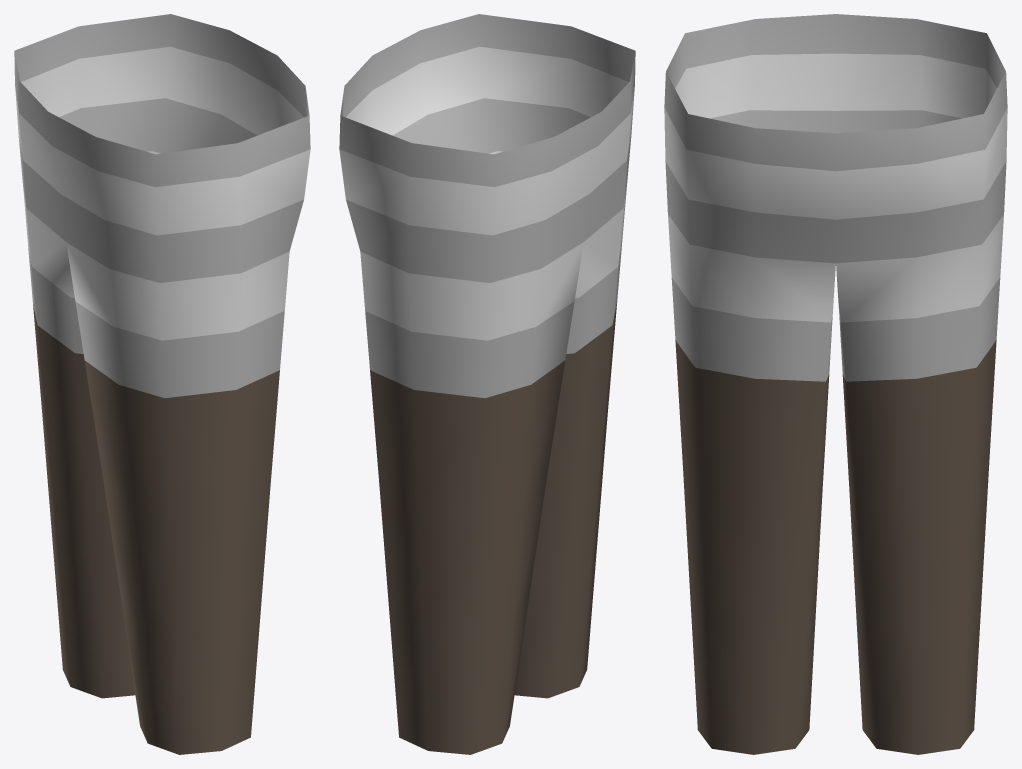
File: boxers.fbx
The picture shows the model from 3 angles, left to right: view 1: azimuth 30°, elevation 25°; view 2: azimuth 150°, elevation 25°; view 3: azimuth 270°, elevation 25°; orthographic projection. The views are drawn at different scales.
Parts seen in each view (by area): view 1: Cube.014; view 2: Cube.014; view 3: Cube.014.
Boxes of the visible parts, bbox=[...] form: Cube.014: bbox=[14, 14, 310, 754]; Cube.014: bbox=[339, 14, 635, 754]; Cube.014: bbox=[664, 14, 1007, 754].
Size of the model in its own units: 106 by 271 by 128.
